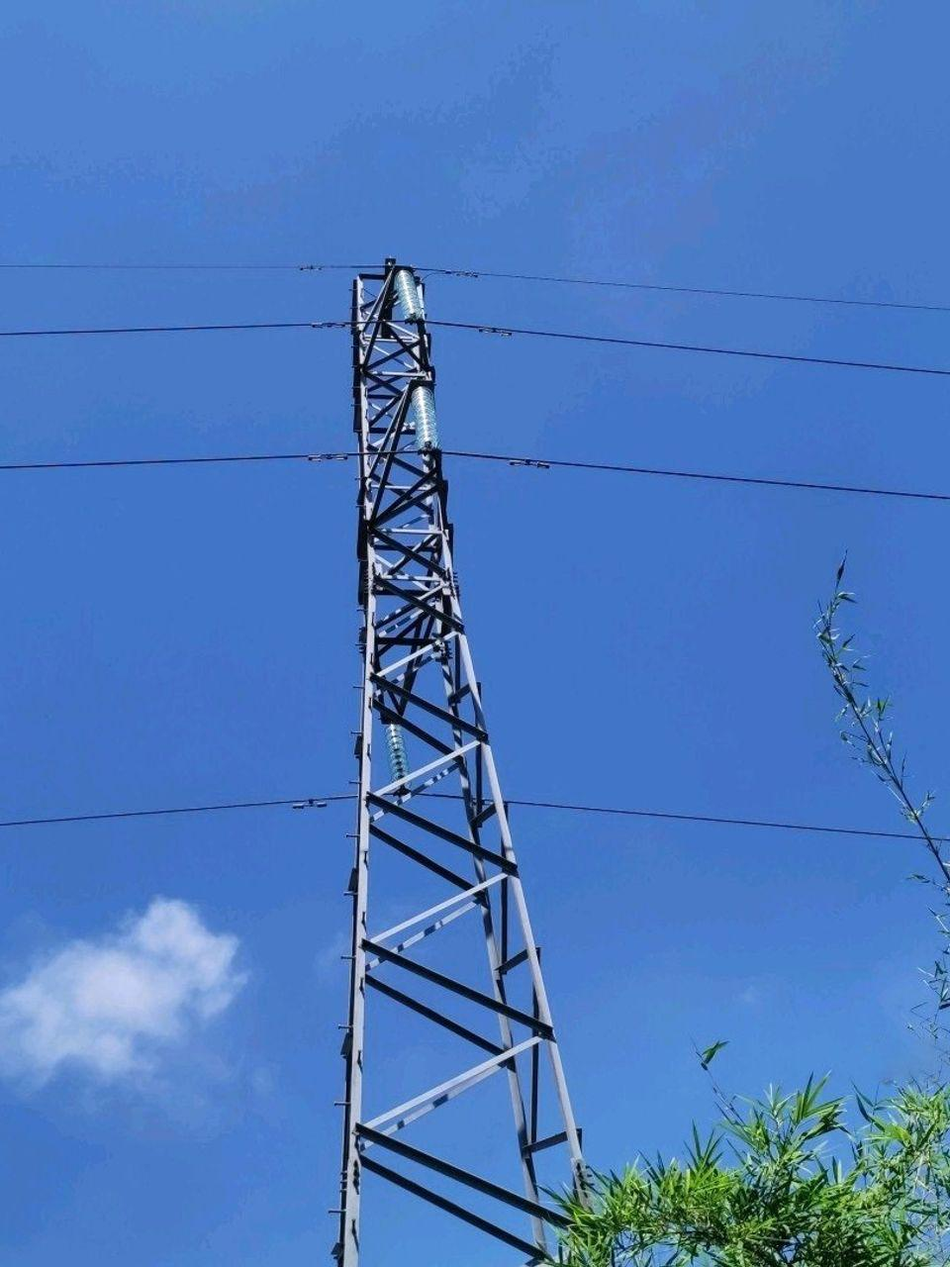tower: (295, 249, 601, 1267)
